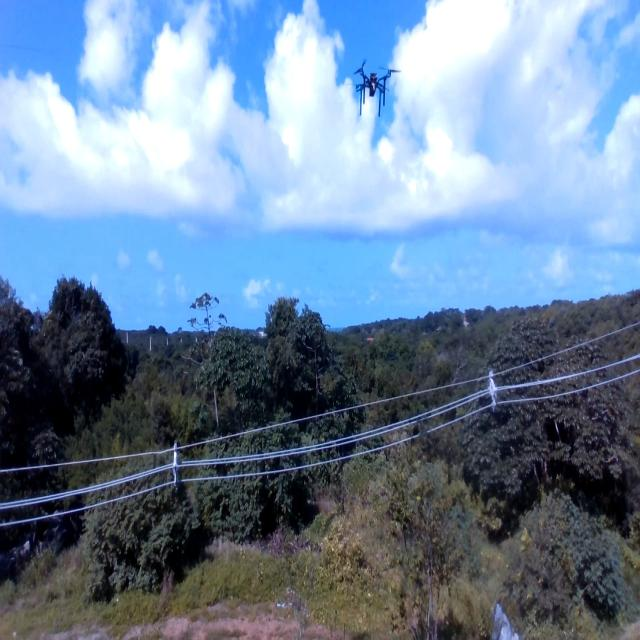-uav-: (345, 48, 408, 131)
